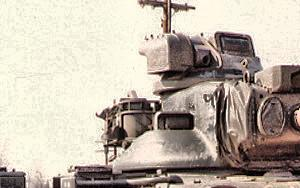tanks: (54, 34, 300, 188)
